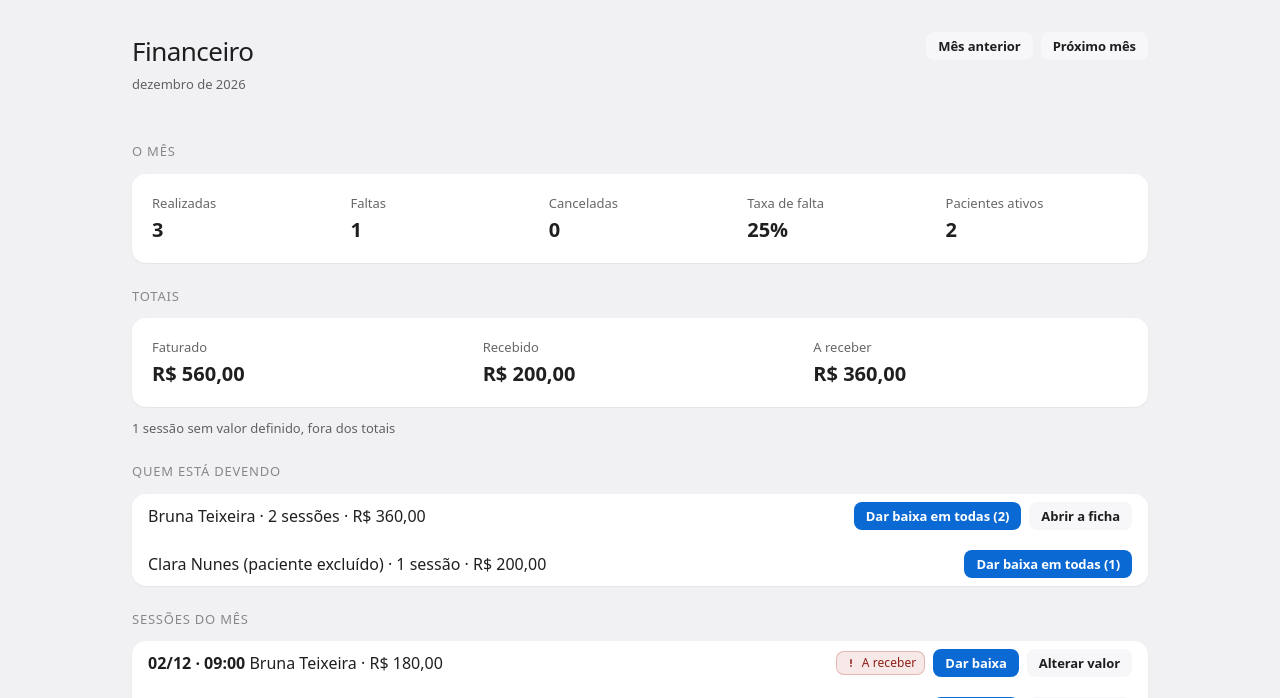
Scenario: tela Financeiro › alterar valor abre o dialogo com o valor atual
Click the button "Alterar valor" in the row of "02/12 · 09:00".
click(1079, 663)  # box [1027,649,1132,677]
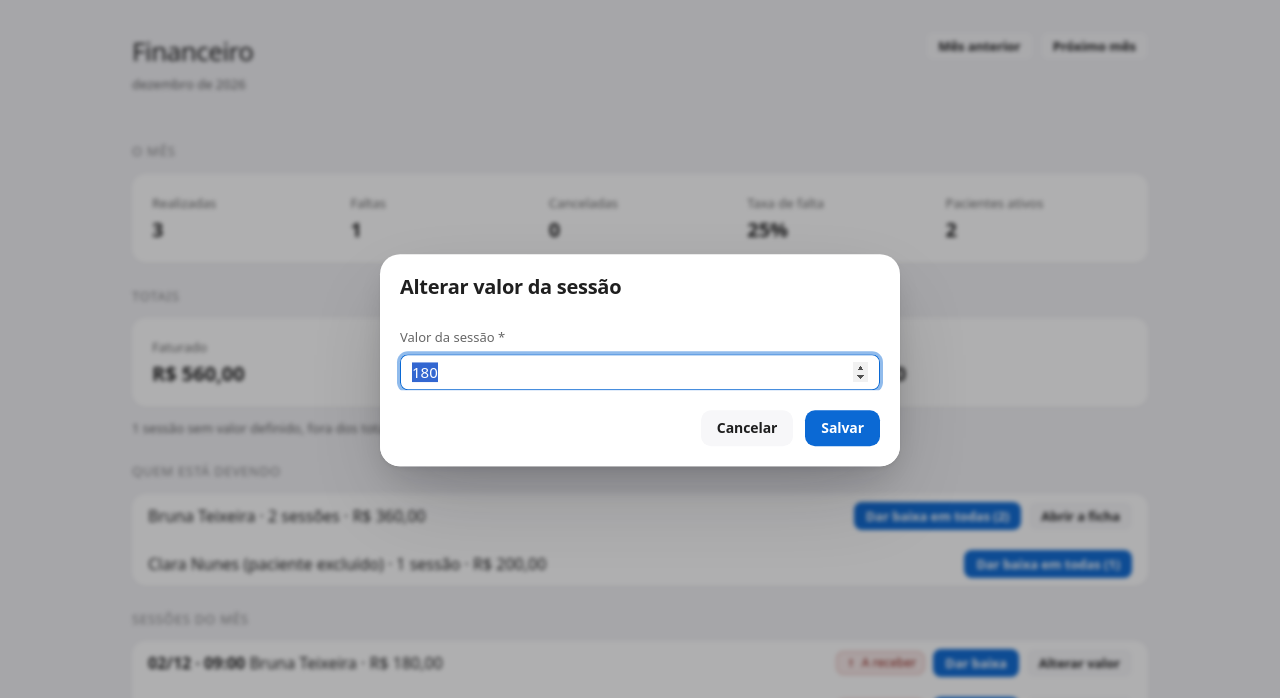
Check: the number field labelled "Valor da sessão *" holds "180", box [400,354,880,390]
